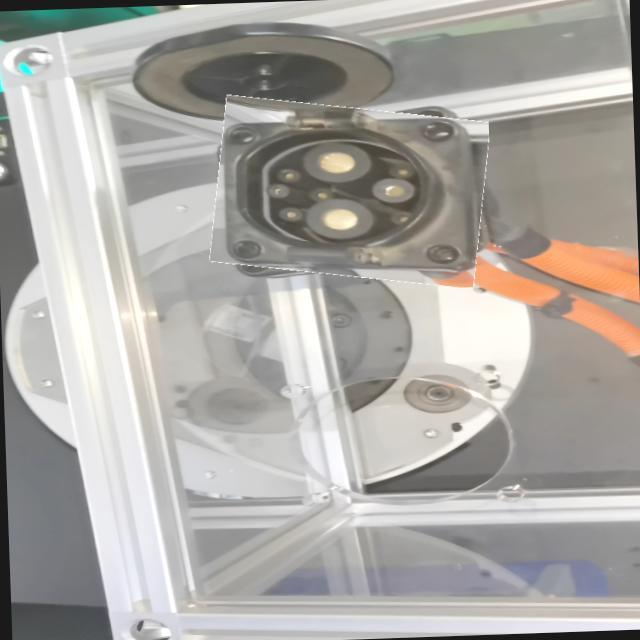GB-T: (220, 123, 466, 266)
